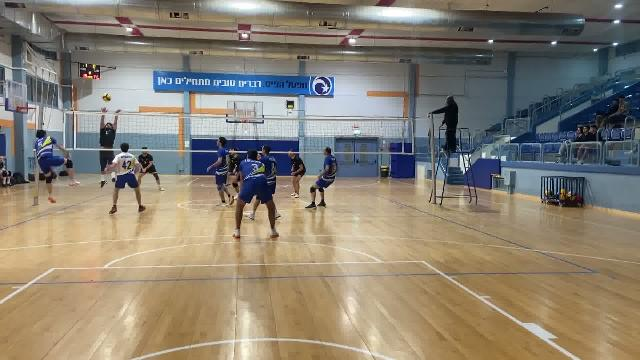ball: (99, 91, 115, 104)
